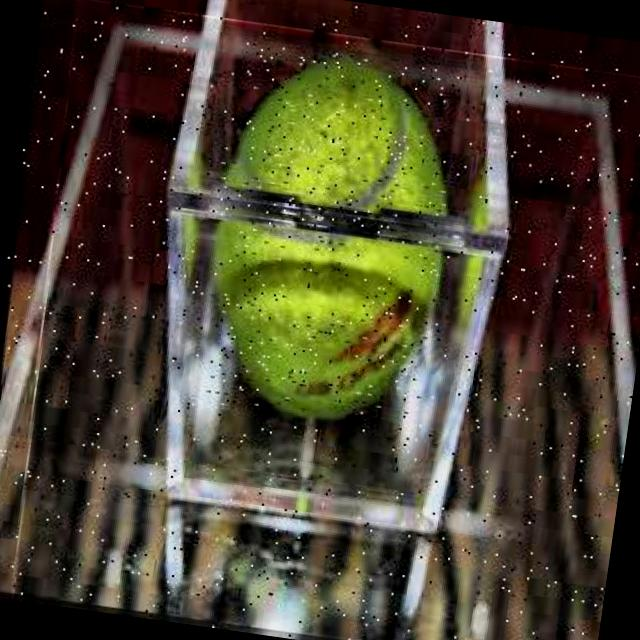Tennis Ball: (185, 42, 470, 436)
